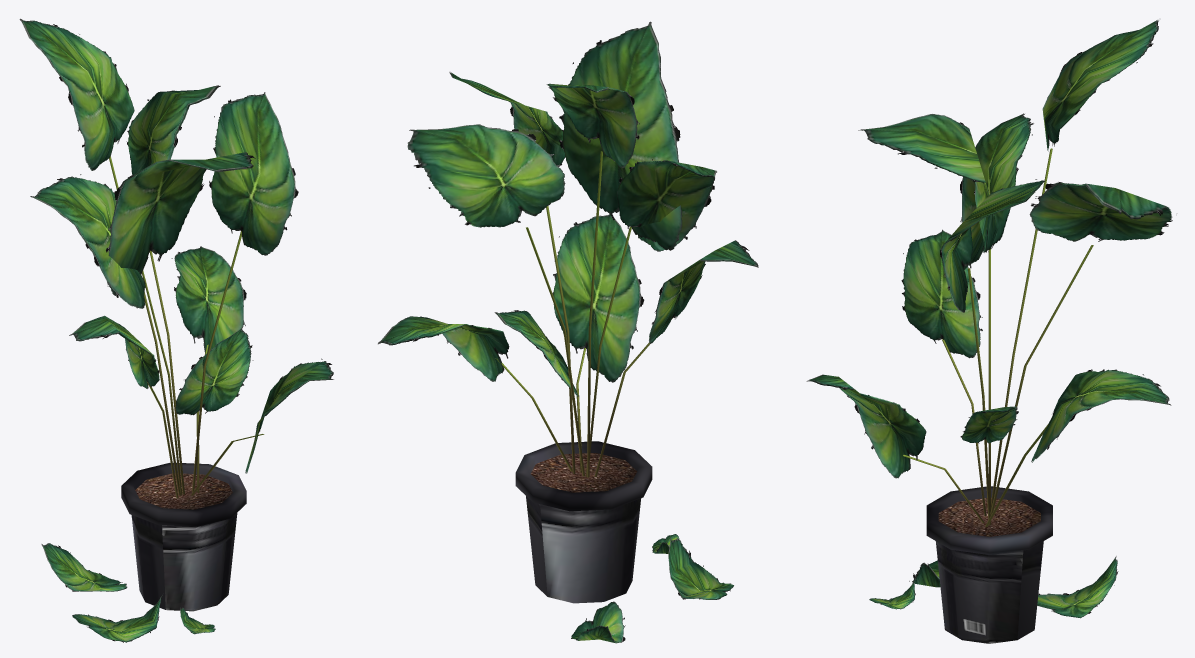
Rendered from house_plant.FBX.
3 views of the same model, side by side, from view 1: azimuth 30°, elevation 25°; view 2: azimuth 150°, elevation 25°; view 3: azimuth 270°, elevation 25° (orthographic). The views are drawn at different scales.
Visible parts, largest first — view 1: plant; view 2: plant; view 3: plant.
Part boxes in pixels (left/top/right/bottom): plant: left=19, top=18, right=333, bottom=642; plant: left=378, top=21, right=758, bottom=643; plant: left=806, top=20, right=1172, bottom=643.
Bounding box in the file's own units: 46.88 × 95.48 × 57.16.
